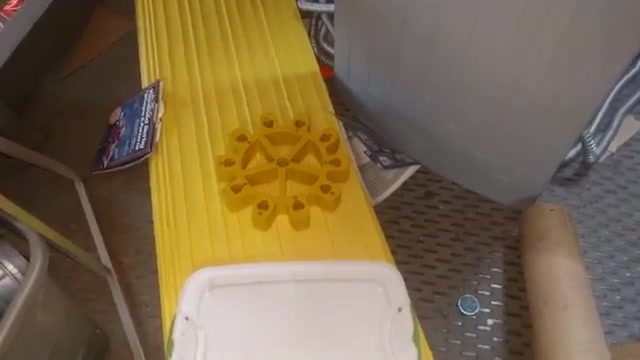gear: (199, 103, 357, 250)
